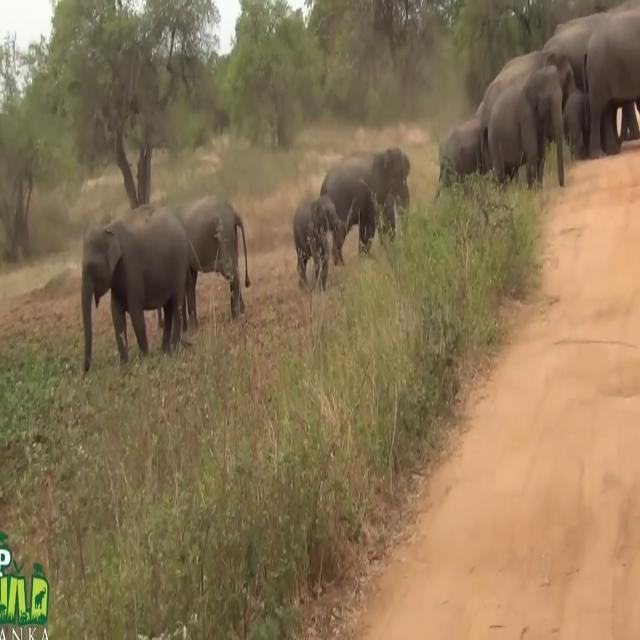Elephant: (81, 203, 195, 373), (173, 194, 250, 328), (320, 146, 410, 258), (487, 63, 565, 190), (293, 194, 346, 292), (438, 116, 486, 190)
